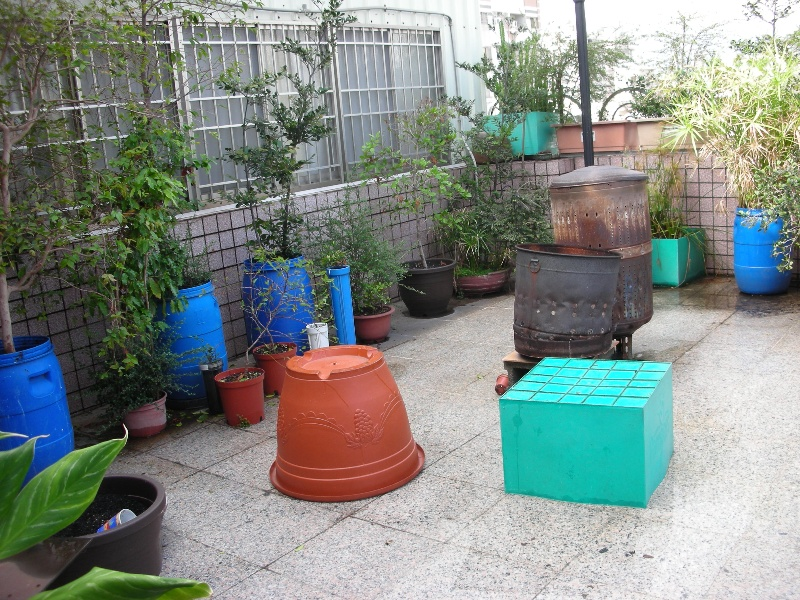bowl: (265, 345, 428, 504)
box: (497, 355, 679, 509)
bucket: (548, 161, 657, 336), (503, 240, 627, 365), (56, 467, 169, 584), (729, 203, 795, 297)
